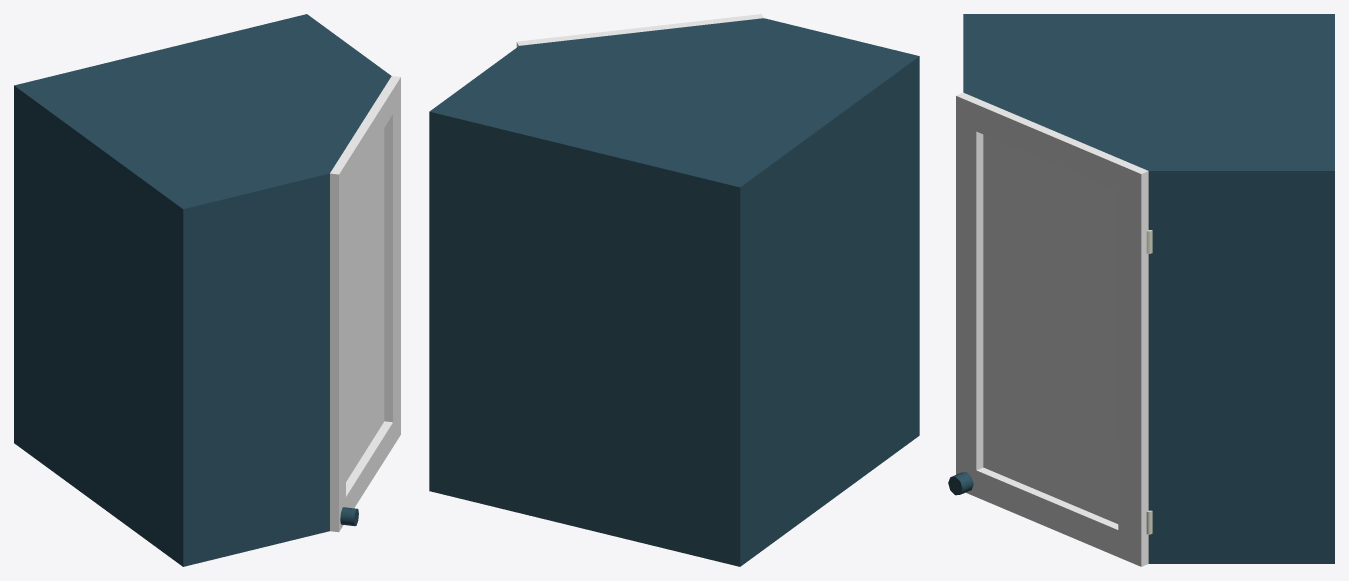
The model's file is Kitchen_E.fbx.
The picture shows the model from 3 angles, left to right: view 1: azimuth 30°, elevation 25°; view 2: azimuth 150°, elevation 25°; view 3: azimuth 270°, elevation 25°; orthographic projection. The views are drawn at different scales.
Visible parts, largest first — view 1: Kitchen_E, Kitchen_E_Door; view 2: Kitchen_E, Kitchen_E_Door; view 3: Kitchen_E, Kitchen_E_Door.
Boxes of the visible parts, x1=… form: Kitchen_E: x1=14, y1=14, x2=391, y2=566; Kitchen_E_Door: x1=330, y1=76, x2=400, y2=532; Kitchen_E: x1=429, y1=18, x2=919, y2=566; Kitchen_E_Door: x1=516, y1=14, x2=763, y2=47; Kitchen_E: x1=963, y1=14, x2=1334, y2=563; Kitchen_E_Door: x1=948, y1=92, x2=1152, y2=566.
Size of the model in its own units: 61.21 by 70.01 by 62.45.
